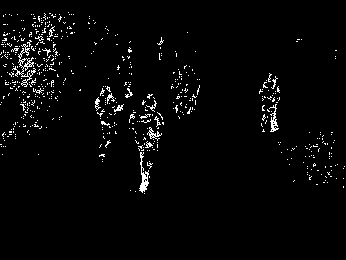person: (126, 91, 164, 195), (95, 85, 120, 160), (260, 71, 281, 133)
